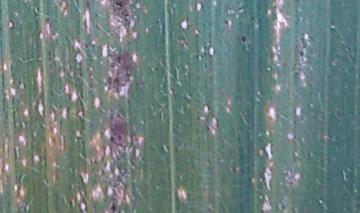tarspot: (108, 134, 124, 148), (109, 201, 117, 213), (113, 1, 124, 8), (240, 34, 247, 43), (298, 49, 305, 58), (223, 18, 230, 26), (249, 14, 256, 22), (116, 55, 122, 63), (117, 135, 123, 142), (85, 1, 91, 8), (154, 18, 160, 24), (123, 12, 130, 17)
